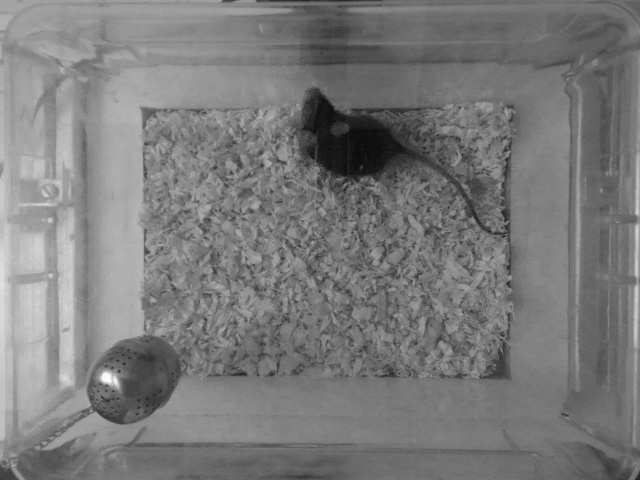mice: (295, 83, 511, 239)
